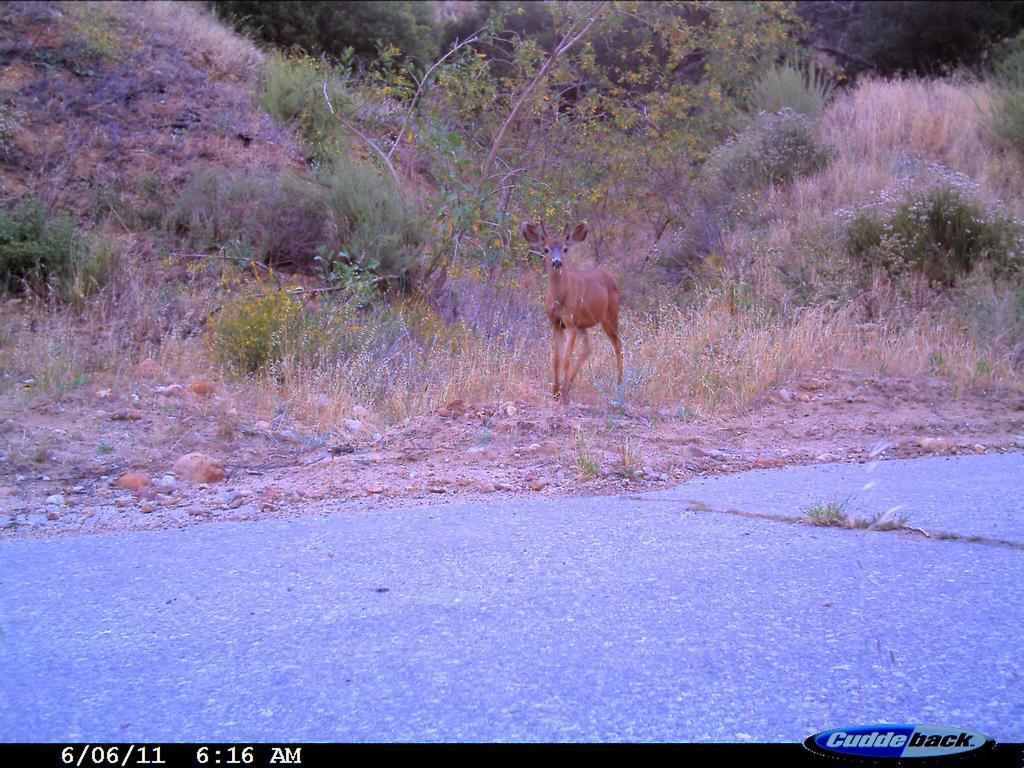deer: (516, 199, 656, 427)
